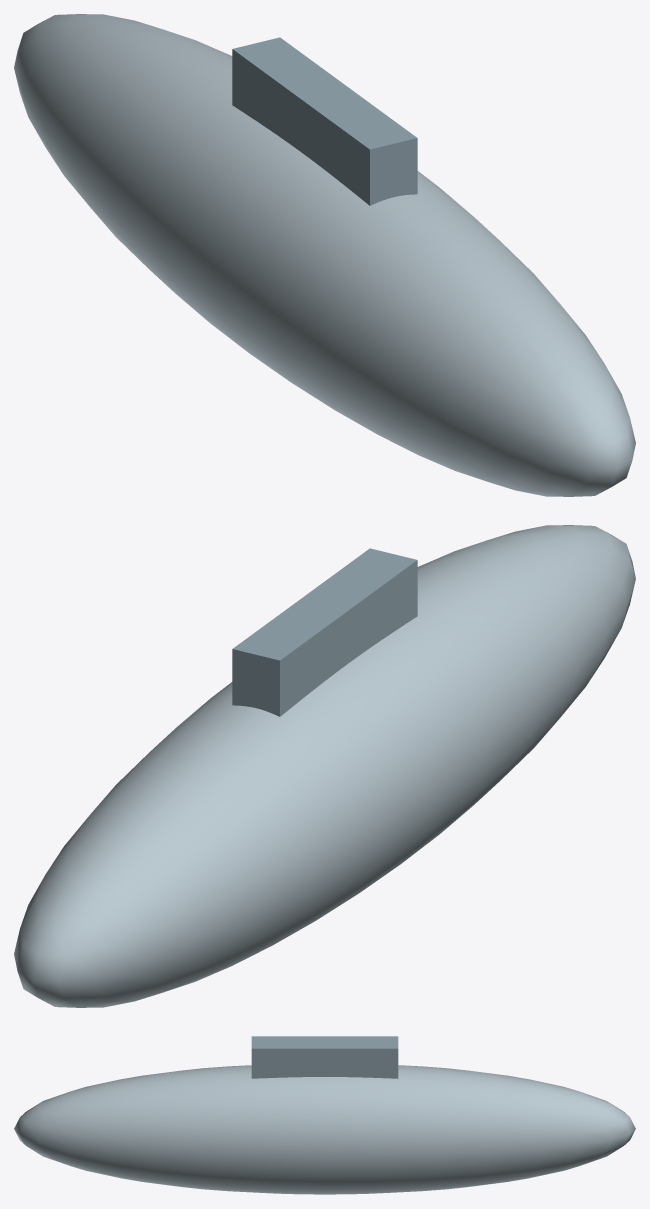
The model's file is tank.glb.
3 renders of one model, top to bottom at view 1: azimuth 30°, elevation 25°; view 2: azimuth 150°, elevation 25°; view 3: azimuth 270°, elevation 25°, orthographic. The views are drawn at different scales.
Visible parts, largest first — view 1: 副油箱, 连接支架; view 2: 副油箱, 连接支架; view 3: 副油箱, 连接支架.
Boxes of the visible parts, bbox=[...] form: 副油箱: bbox=[14, 14, 635, 496]; 连接支架: bbox=[232, 37, 417, 205]; 副油箱: bbox=[14, 525, 635, 1007]; 连接支架: bbox=[232, 548, 417, 716]; 副油箱: bbox=[14, 1065, 635, 1194]; 连接支架: bbox=[251, 1036, 398, 1078].
Bounding box in the file's own units: 0.72 × 0.88 × 3.4.
